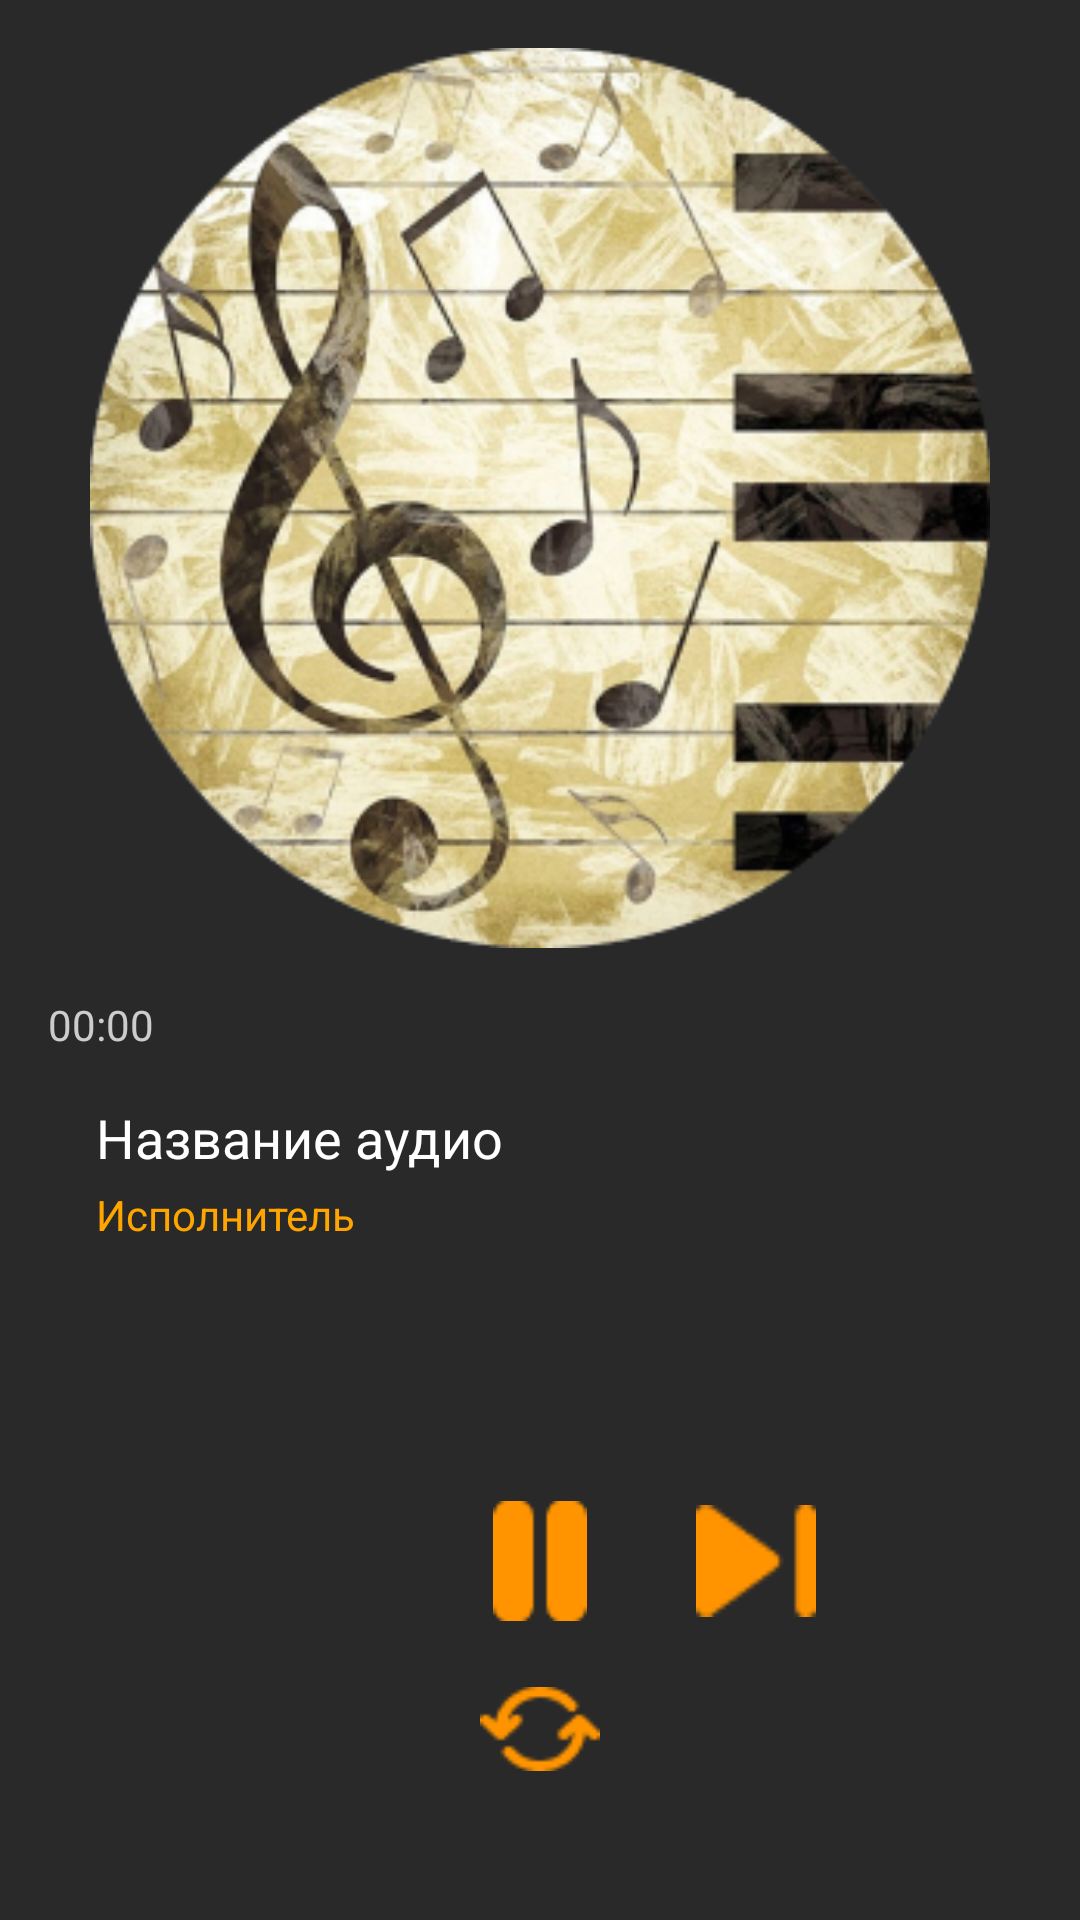

Screen size 1080 × 1920. Icon name, then its center in pixels as (x=x, y=y):
Next: (x=756, y=1561)
Play/Pause: (x=540, y=1561)
Repeat: (x=540, y=1729)
